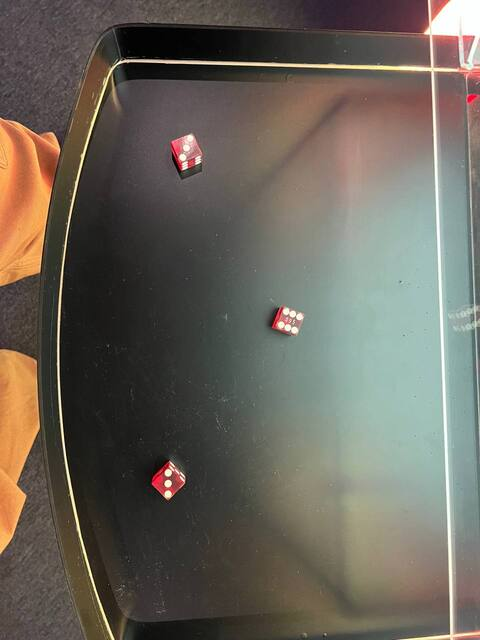one: (167, 130, 205, 159)
six: (270, 303, 307, 338)
three: (150, 466, 185, 501)
